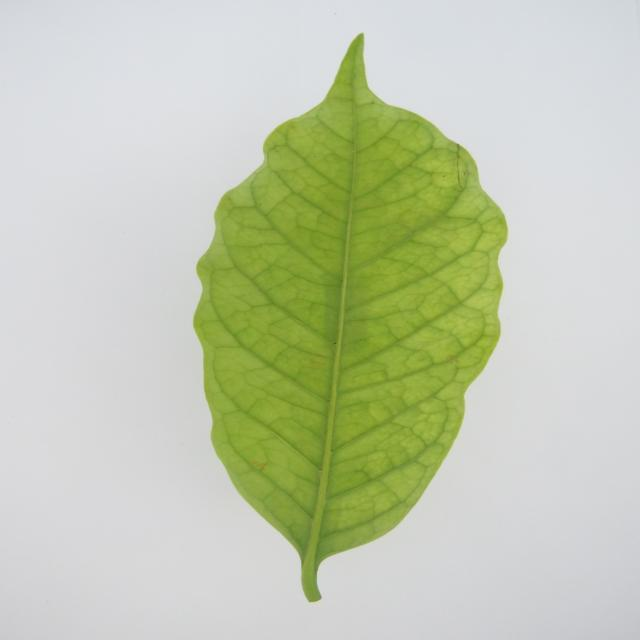DeficienciaNutricional-Calcio: (195, 35, 507, 601)
